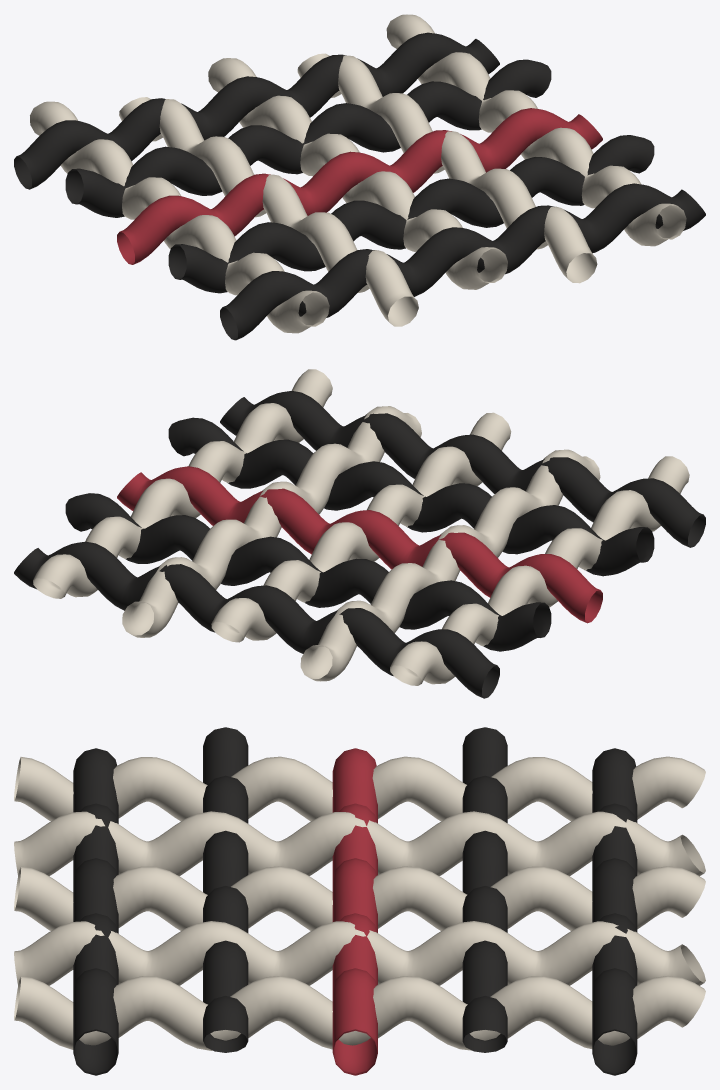
Rendered from VSV-018.glb.
3 views of the same model, one above another, from view 1: azimuth 30°, elevation 25°; view 2: azimuth 150°, elevation 25°; view 3: azimuth 270°, elevation 25° (orthographic). The views are drawn at different scales.
Visible parts, largest first — view 1: VSV-018_woven-grid__weft.003, VSV-018_woven-grid__weft.001, VSV-018_woven-grid__weft, VSV-018_woven-grid__weft.002, VSV-018_woven-grid__weft.004, VSV-018_woven-grid__warp.001, VSV-018_woven-grid__warp.003, VSV-018_woven-grid__warp.002, VSV-018_woven-grid__warp, VSV-018_woven-grid__warp.004; view 2: VSV-018_woven-grid__weft.003, VSV-018_woven-grid__weft.001, VSV-018_woven-grid__weft.004, VSV-018_woven-grid__weft, VSV-018_woven-grid__weft.002, VSV-018_woven-grid__warp, VSV-018_woven-grid__warp.002, VSV-018_woven-grid__warp.004, VSV-018_woven-grid__warp.001, VSV-018_woven-grid__warp.003; view 3: VSV-018_woven-grid__warp.004, VSV-018_woven-grid__warp.001, VSV-018_woven-grid__warp.003, VSV-018_woven-grid__warp.002, VSV-018_woven-grid__warp, VSV-018_woven-grid__weft, VSV-018_woven-grid__weft.002, VSV-018_woven-grid__weft.004, VSV-018_woven-grid__weft.003, VSV-018_woven-grid__weft.001.
Part boxes in pixels (left/top/right/bottom): VSV-018_woven-grid__weft.003: left=65, top=59, right=551, bottom=217; VSV-018_woven-grid__weft.001: left=168, top=135, right=654, bottom=293; VSV-018_woven-grid__weft: left=220, top=183, right=705, bottom=340; VSV-018_woven-grid__weft.002: left=117, top=108, right=602, bottom=264; VSV-018_woven-grid__weft.004: left=14, top=32, right=499, bottom=189; VSV-018_woven-grid__warp.001: left=119, top=97, right=418, bottom=326; VSV-018_woven-grid__warp.003: left=297, top=53, right=597, bottom=283; VSV-018_woven-grid__warp.002: left=208, top=58, right=507, bottom=289; VSV-018_woven-grid__warp: left=30, top=101, right=329, bottom=333; VSV-018_woven-grid__warp.004: left=386, top=14, right=686, bottom=246; VSV-018_woven-grid__weft.003: left=65, top=493, right=551, bottom=651; VSV-018_woven-grid__weft.001: left=168, top=417, right=654, bottom=576; VSV-018_woven-grid__weft.004: left=14, top=541, right=499, bottom=698; VSV-018_woven-grid__weft: left=220, top=391, right=705, bottom=547; VSV-018_woven-grid__weft.002: left=117, top=466, right=602, bottom=623; VSV-018_woven-grid__warp: left=390, top=456, right=689, bottom=685; VSV-018_woven-grid__warp.002: left=211, top=412, right=511, bottom=642; VSV-018_woven-grid__warp.004: left=33, top=369, right=332, bottom=598; VSV-018_woven-grid__warp.001: left=300, top=449, right=600, bottom=681; VSV-018_woven-grid__warp.003: left=122, top=406, right=421, bottom=637; VSV-018_woven-grid__warp.004: left=14, top=976, right=705, bottom=1050; VSV-018_woven-grid__warp.001: left=14, top=811, right=705, bottom=876; VSV-018_woven-grid__warp.003: left=14, top=921, right=705, bottom=985; VSV-018_woven-grid__warp.002: left=14, top=866, right=705, bottom=930; VSV-018_woven-grid__warp: left=14, top=756, right=705, bottom=821; VSV-018_woven-grid__weft: left=73, top=748, right=118, bottom=1075; VSV-018_woven-grid__weft.002: left=332, top=748, right=377, bottom=1075; VSV-018_woven-grid__weft.004: left=592, top=748, right=637, bottom=1075; VSV-018_woven-grid__weft.003: left=462, top=727, right=507, bottom=1052; VSV-018_woven-grid__weft.001: left=203, top=727, right=248, bottom=1052.
Size of the model in its own units: 2.29 by 0.26 by 2.29.
